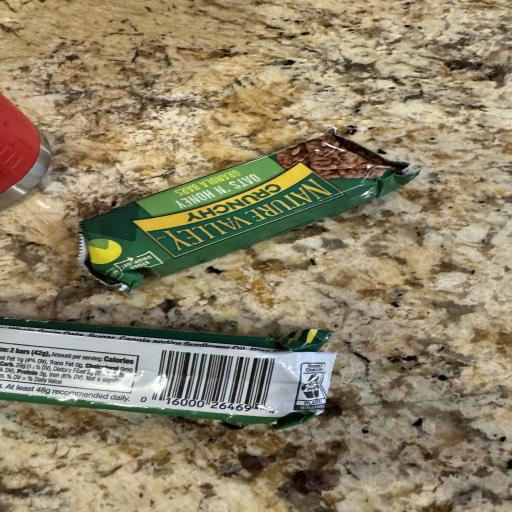granola: (81, 130, 416, 290), (0, 318, 335, 428)
